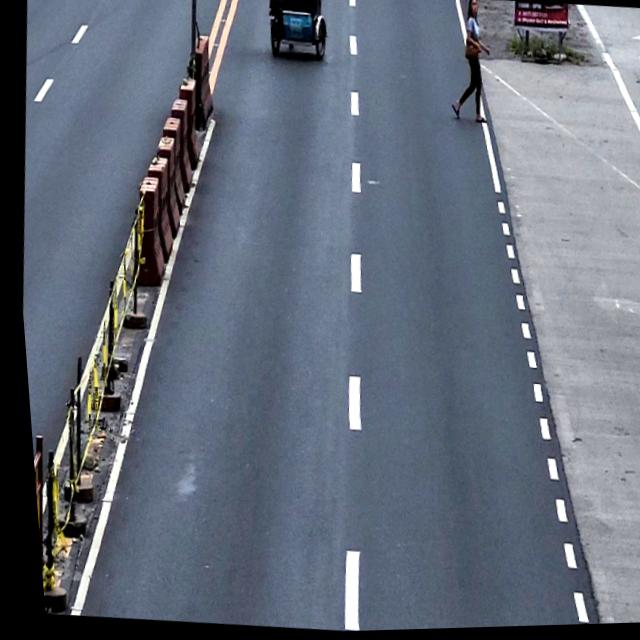Tricycle: (262, 0, 331, 64)
